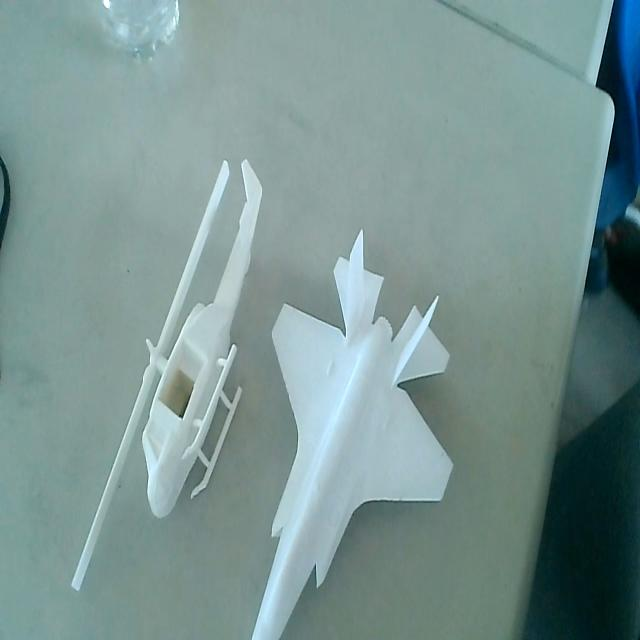Helicopter: (68, 160, 262, 584)
Jet: (250, 222, 458, 640)
